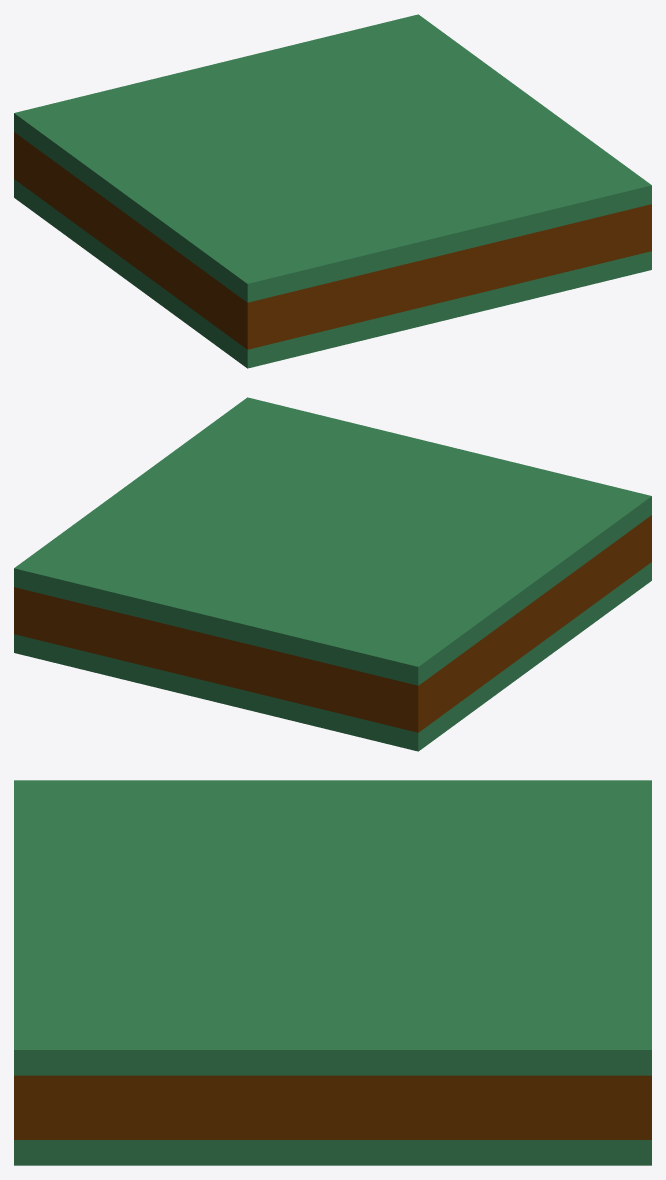
Rendered from GroundTile_0-Edge.fbx.
The picture shows the model from 3 angles, top to bottom: view 1: azimuth 30°, elevation 25°; view 2: azimuth 150°, elevation 25°; view 3: azimuth 270°, elevation 25°; orthographic projection. The views are drawn at different scales.
Visible parts, largest first — view 1: Tile_Center; view 2: Tile_Center; view 3: Tile_Center.
Boxes of the visible parts, x1,y1,x2,y2 form: Tile_Center: (14,14,651,368); Tile_Center: (14,397,651,751); Tile_Center: (14,780,651,1165).
Size of the model in its own units: 100 by 20 by 100.
